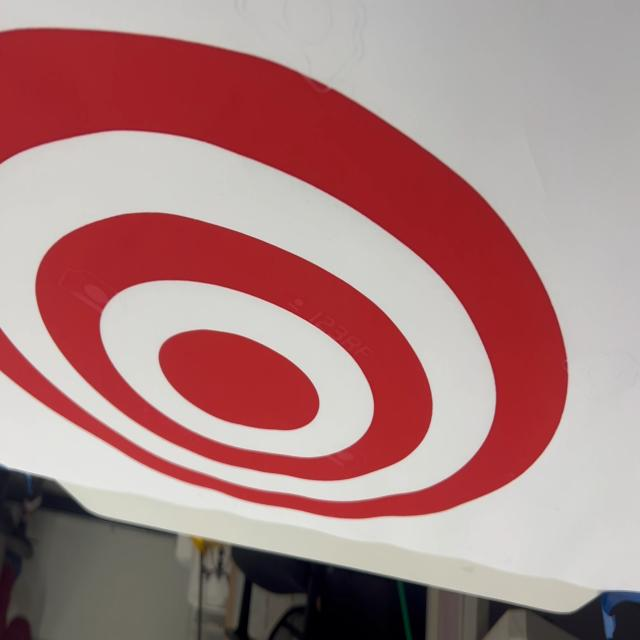target_red: (0, 0, 580, 531)
